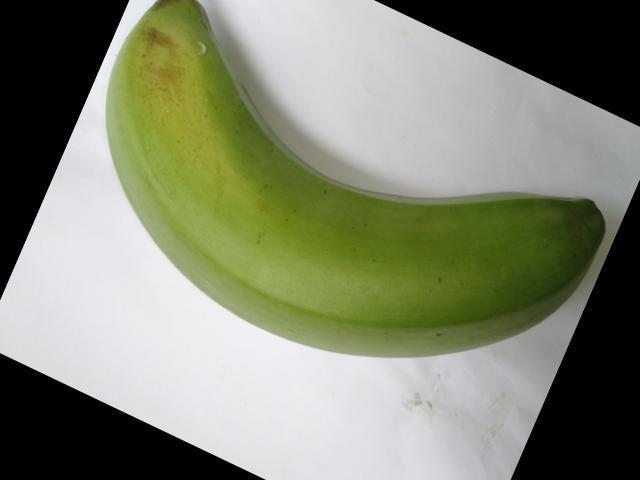freshunripe: (88, 0, 620, 369)
